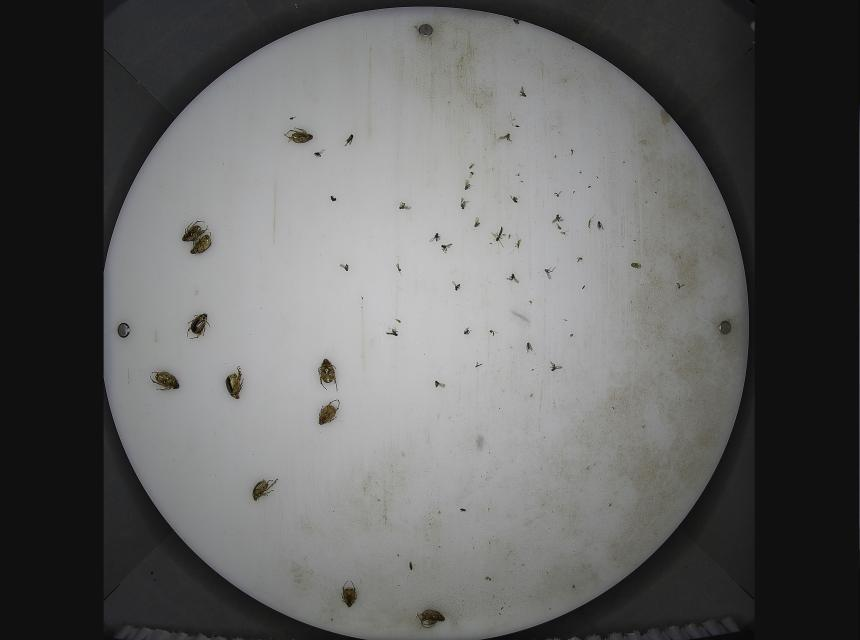Tiny fly: (543, 265, 558, 281), (549, 359, 565, 373), (504, 271, 520, 285), (384, 324, 400, 337), (498, 132, 514, 145), (513, 232, 522, 255), (550, 213, 566, 225), (439, 243, 453, 256), (428, 232, 442, 244), (486, 326, 499, 338), (343, 133, 354, 147), (312, 148, 327, 158), (434, 379, 447, 389), (398, 201, 412, 210), (464, 179, 475, 190), (338, 262, 350, 272), (629, 262, 644, 270), (525, 341, 534, 354), (518, 85, 527, 98), (462, 326, 472, 336), (509, 194, 519, 203), (468, 161, 477, 170), (575, 256, 584, 265)
insect: (315, 356, 341, 394), (223, 364, 246, 402), (185, 312, 213, 342), (180, 219, 211, 245), (315, 398, 342, 427), (251, 476, 280, 503), (147, 370, 181, 392), (281, 125, 316, 145), (188, 231, 214, 255), (340, 580, 359, 610), (414, 608, 447, 625)
skeeter: (489, 224, 505, 255), (587, 212, 597, 235), (460, 195, 472, 211)
